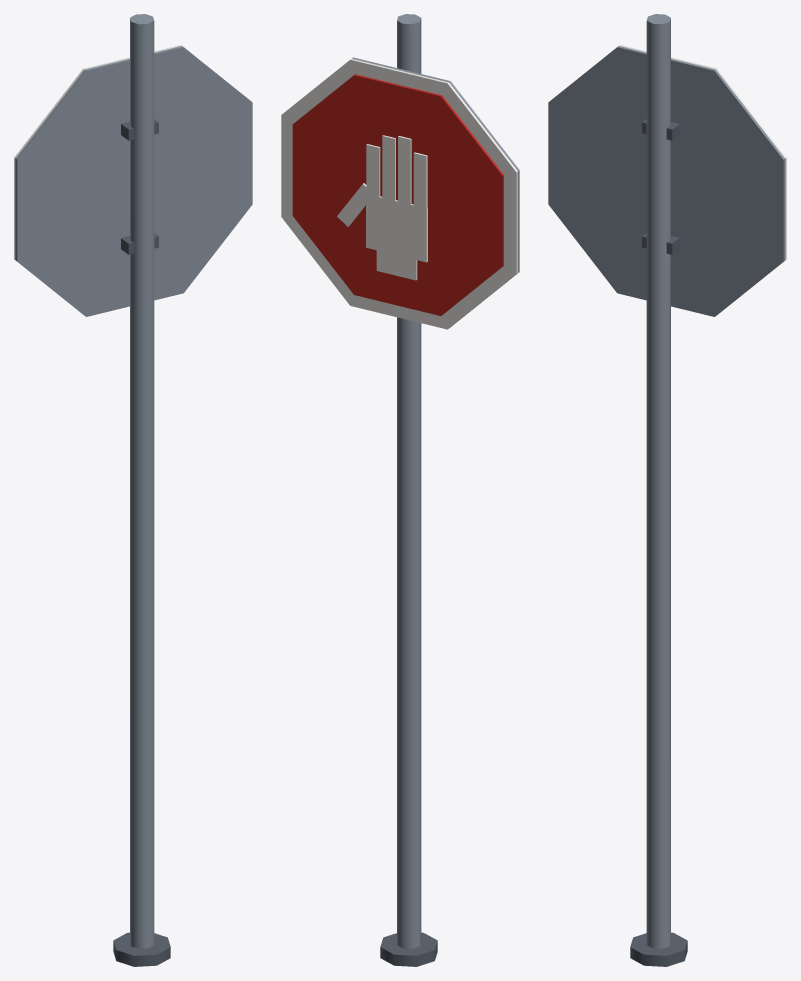
The model's file is sign_stop.glb.
3 renders of one model, left to right at view 1: azimuth 30°, elevation 25°; view 2: azimuth 150°, elevation 25°; view 3: azimuth 330°, elevation 25°, orthographic.
Visible parts, largest first — view 1: sign_stop; view 2: sign_stop; view 3: sign_stop.
Boxes of the visible parts, box(x1,y1,x2,y2) form: sign_stop: box(14, 14, 252, 966); sign_stop: box(281, 14, 519, 966); sign_stop: box(548, 14, 786, 966).
Size of the model in its own units: 0.7761 by 2.95 by 0.17.
